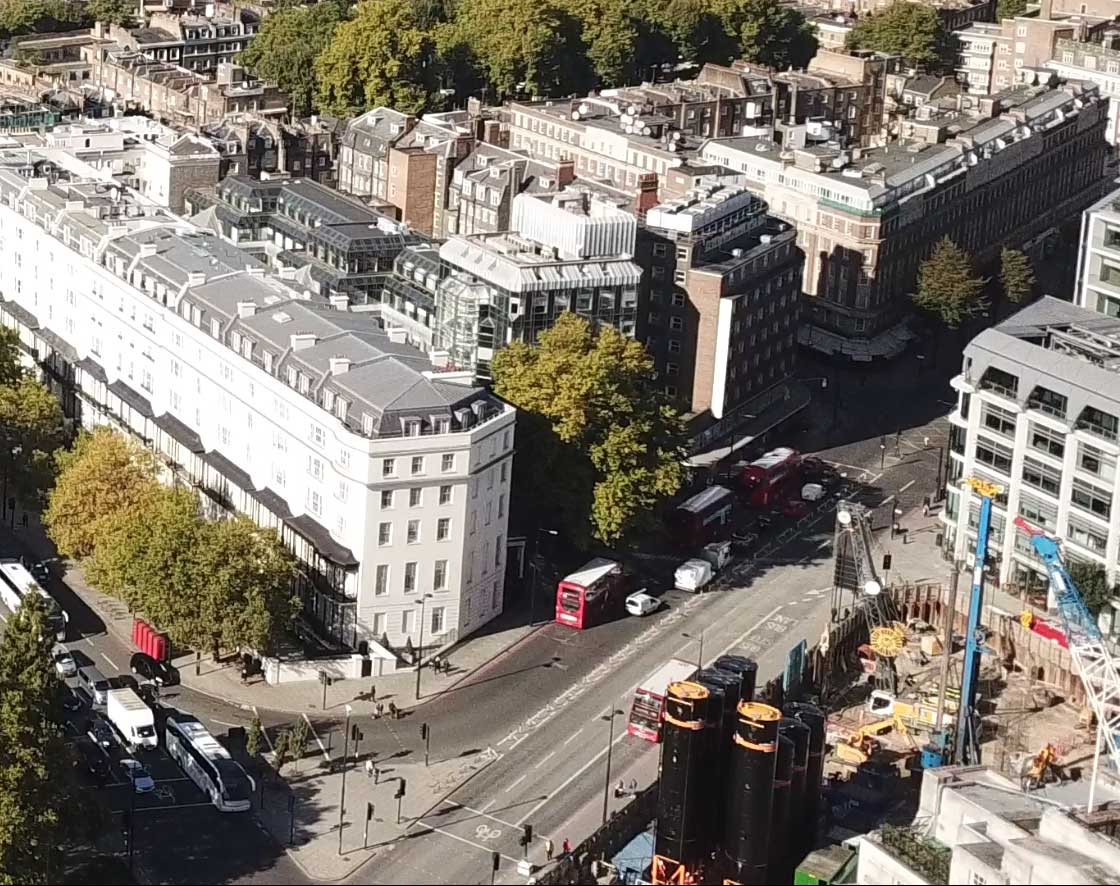building: (1, 176, 532, 663), (942, 292, 1120, 569)
bus: (158, 698, 262, 822), (552, 550, 626, 641), (742, 444, 812, 515)
trees: (42, 429, 294, 679)
